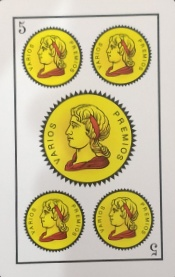5o: (11, 12, 161, 38)
